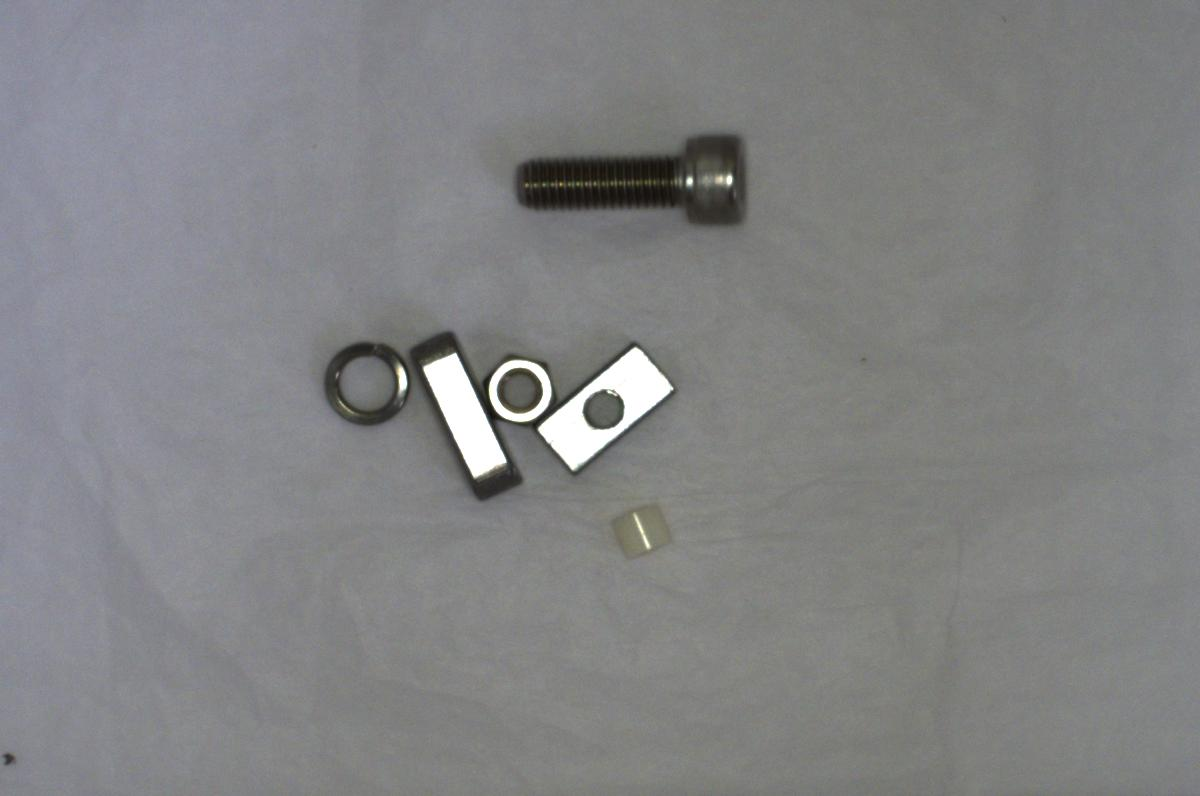Hexagon nut: (474, 348, 560, 428)
Hexagon screw: (514, 125, 757, 228)
Keybar: (407, 328, 533, 505)
Plastic cushion pillar: (605, 490, 673, 566)
Rectangular nut: (531, 341, 682, 475)
Spring washer: (297, 338, 412, 427)
